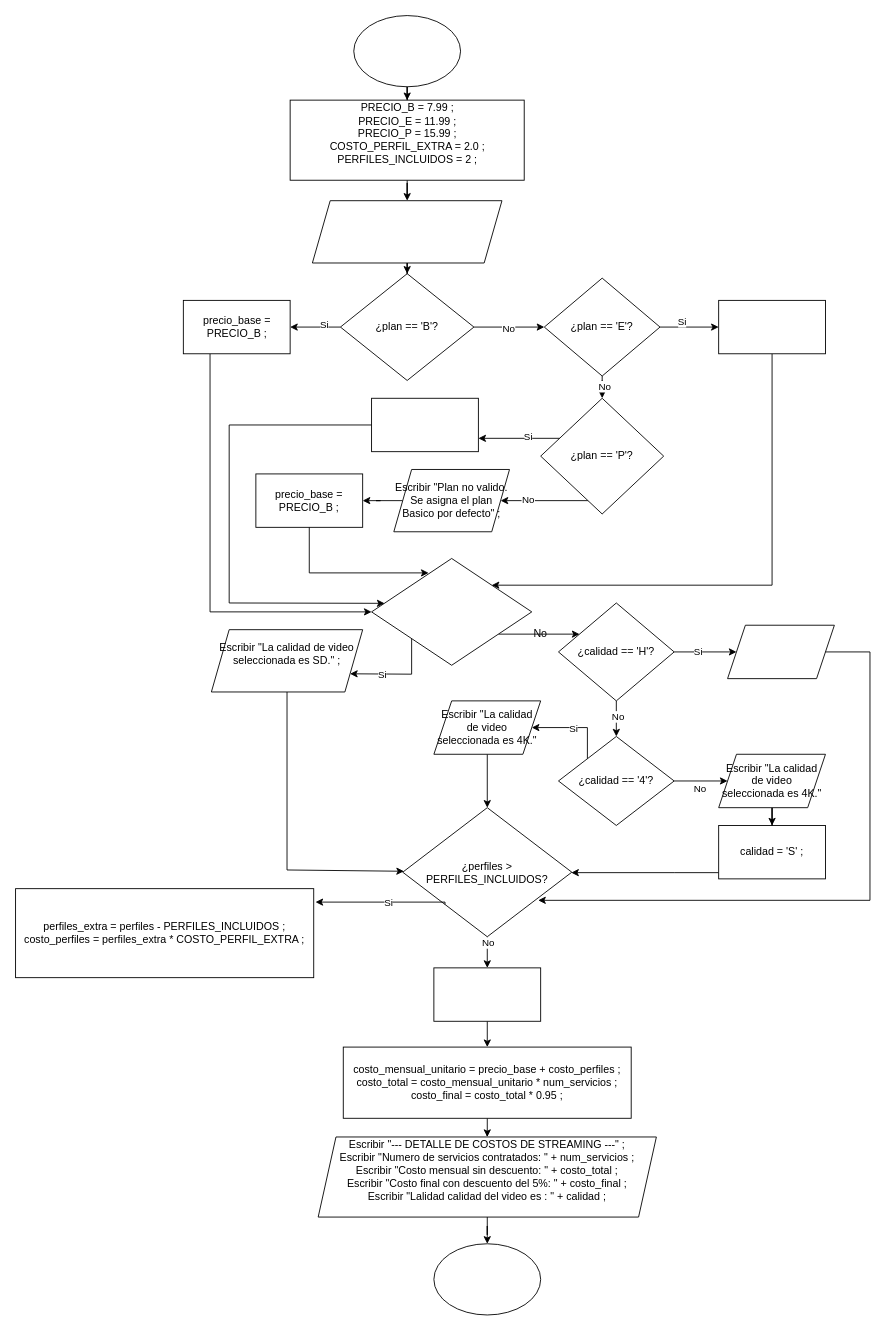
The diagram is 893 pixels wide and 1331 high, and some of its shapes have lost their labels. Each missing label, with the box of its shape:
costo_perfiles = 0.0 ;: (433, 967, 541, 1021)
Escribir "La calidad de video seleccionada es HD.": (727, 624, 834, 679)
Fin: (433, 1243, 541, 1315)
Inicio: (353, 15, 461, 87)
Leer num_servicios ; Leer plan ; Leer perfiles ; Leer calidad ;: (312, 200, 502, 263)
precio_base = PRECIO_E ;: (718, 299, 825, 354)
precio_base = PRECIO_P: (371, 397, 478, 452)
¿calidad == 'S'?: (371, 558, 532, 665)
